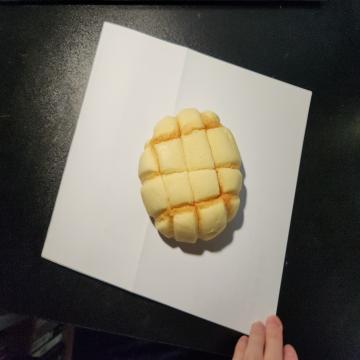melon_bread: (139, 110, 244, 248)
